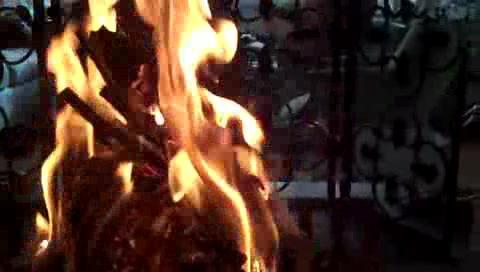fire: (44, 7, 252, 250)
